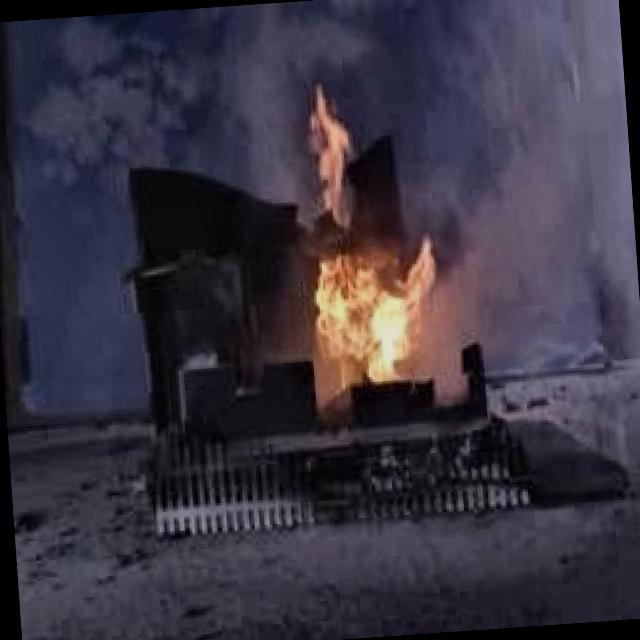fire: (275, 150, 451, 404)
